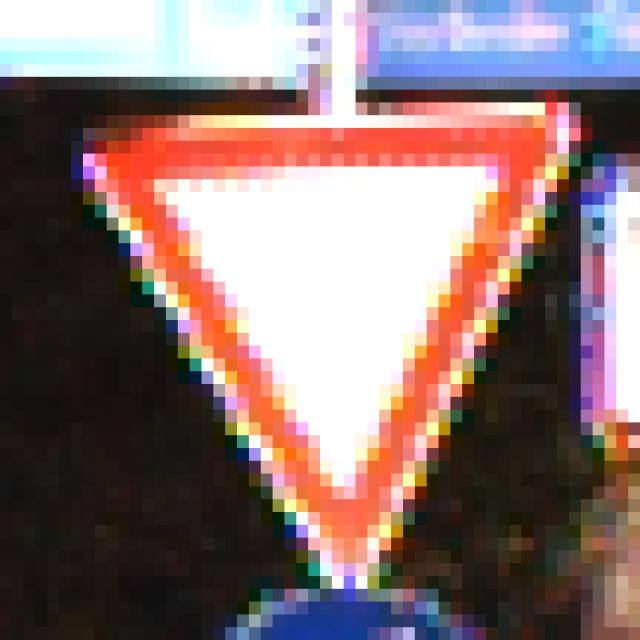Give Way: (72, 78, 582, 577)
